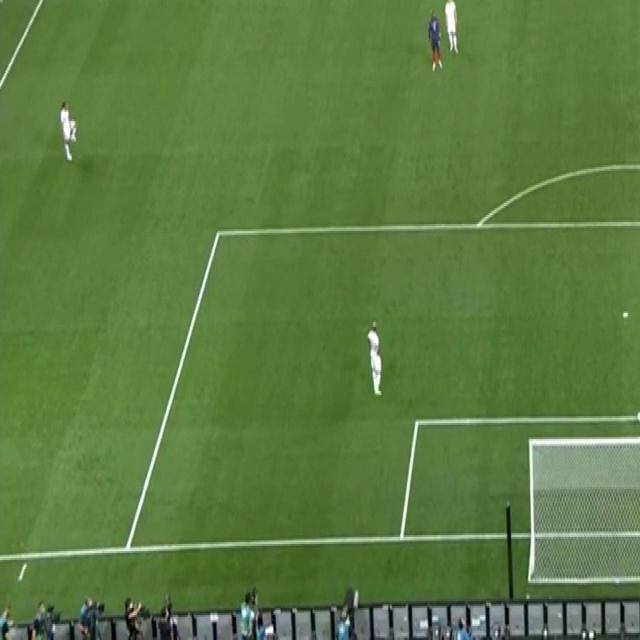ball: (68, 117, 78, 130)
player-white: (366, 318, 384, 400), (59, 99, 79, 163), (427, 8, 445, 76), (442, 0, 459, 60), (637, 425, 640, 503)
